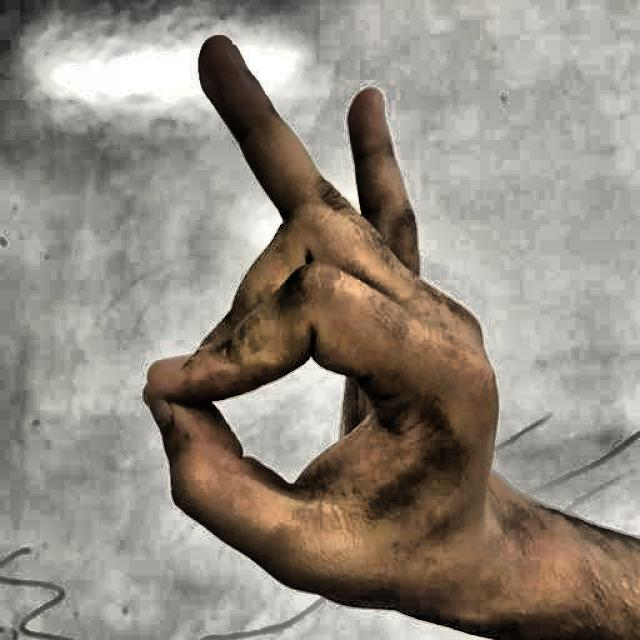Na: (118, 25, 517, 640)
